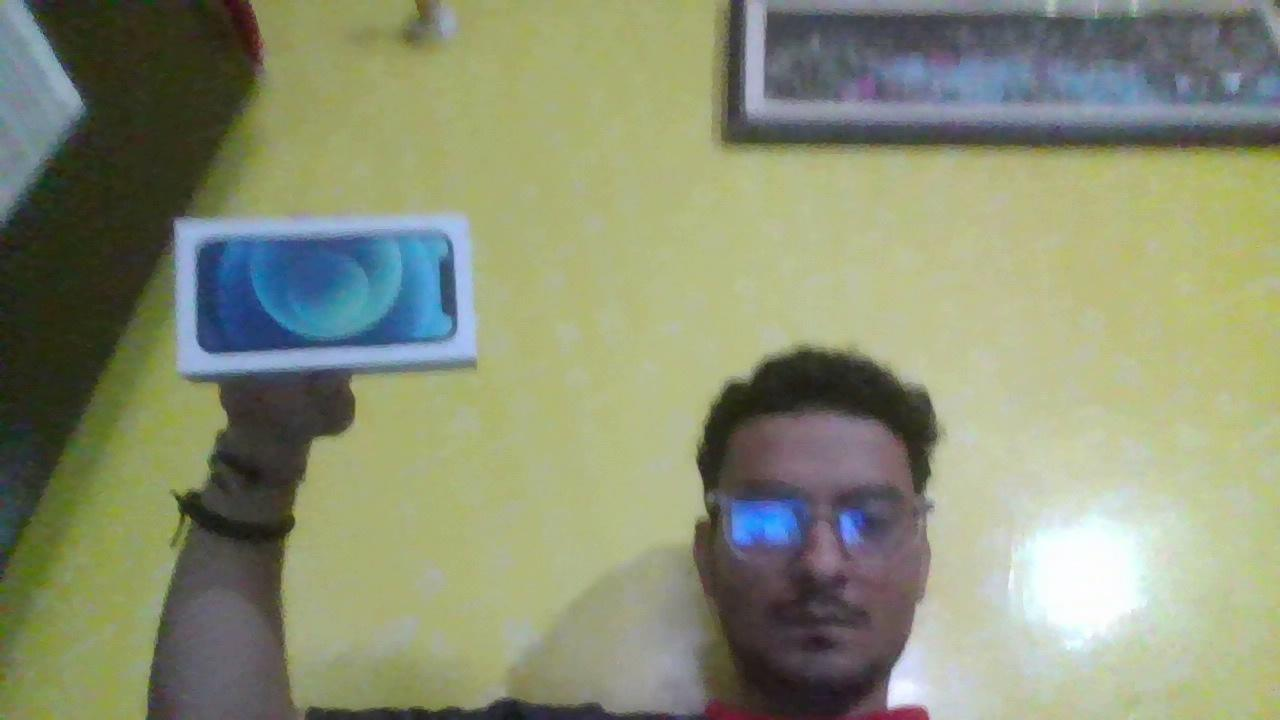Phone: (150, 196, 490, 381)
